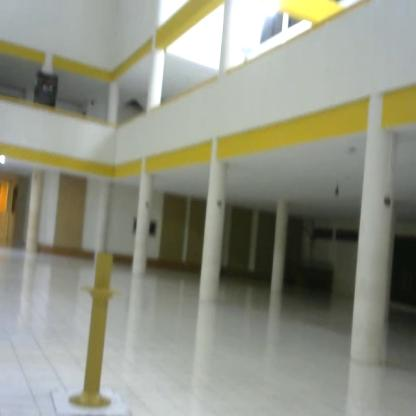pole: (70, 249, 132, 412)
